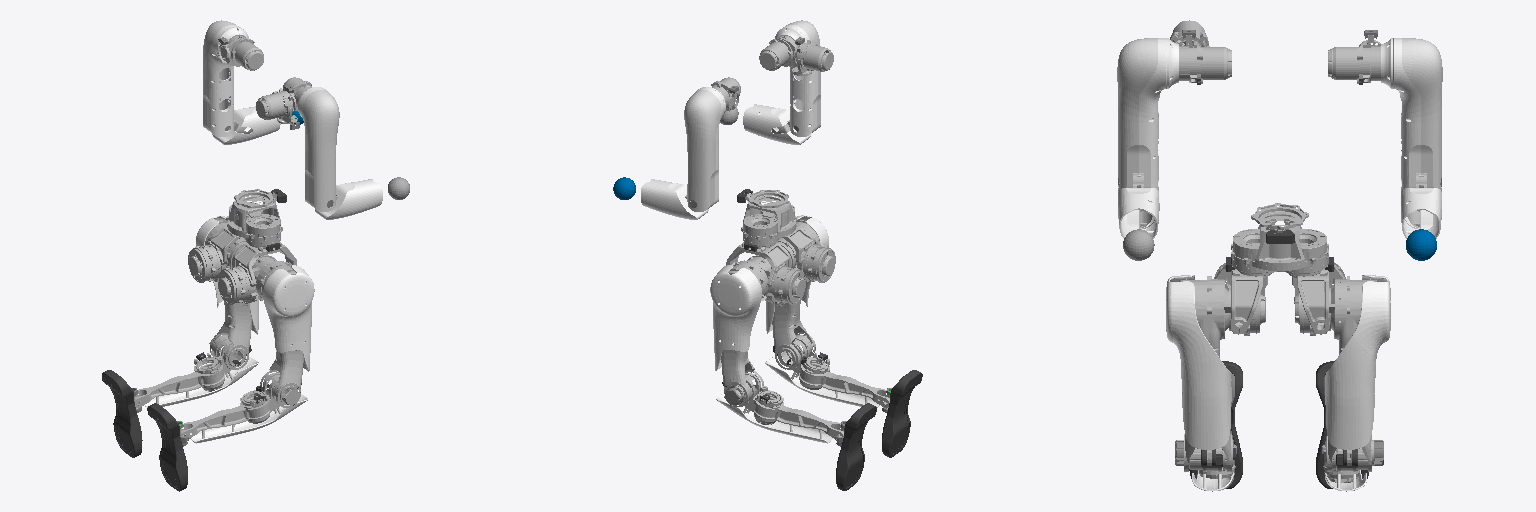
URDF robot description (WuKongIV):
<?xml version="1.0" encoding="utf-8"?>
<robot name="WuKongIV">
  <link name="SACRUM">
    <inertial>
      <mass value="0" />
      <inertia ixx="0" ixy="0" ixz="0" iyy="0" iyz="0" izz="0" />
    </inertial>
    <visual>
      <geometry>
        <mesh filename="../meshes_dae/SACRUM.dae" />
      </geometry>
    </visual>
  </link>

  <link name="BASE_INER">
    <inertial>
      <origin xyz="0.00096078 -2.1928E-05 -0.025162" />
      <mass value="3.4422" />
      <inertia ixx="0.01008488" ixy="-8.7E-07" ixz="-0.00016364" iyy="0.00548956" iyz="-2.8E-07" izz="0.00997073" />
    </inertial>
  </link>

  <joint name="Base2Iner" type="fixed">
    <parent link="SACRUM" />
    <child link="BASE_INER" />
  </joint>

  <link name="TORSO">
    <inertial>
      <origin xyz="0.002727 0.00010666 0.18215" />
      <mass value="17.144" />
      <inertia ixx="0.44797196" ixy="-0.00008178" ixz="-0.00554868" iyy="0.34075748" iyz="0.00021549" izz="0.17876604" />
    </inertial>
    <visual>
      <geometry>
        <mesh filename="../meshes_dae/TORSO.dae" />
      </geometry>
    </visual>
    <collision>
      <origin xyz="0 0 0.15" />
      <geometry>
        <box size="0.2 0.31 0.48"/>
      </geometry>
    </collision>
  </link>

  <joint name="Waist" type="revolute">
    <origin xyz="0.00010001 0 0.03751" />
    <parent link="SACRUM" />
    <child link="TORSO" />
    <axis xyz="0 0 1" />
    <limit lower="-0.698" upper="0.698" effort="84" velocity="7.85" />
    <dynamics damping="0" friction="0" />
  </joint>

  <link name="SCAPULA_R">
    <inertial>
      <origin xyz="-0.017297 -0.00031922 -0.0027747" />
      <mass value="1.0094" />
      <inertia ixx="0.00072781" ixy="0.00000511" ixz="0.00004844" iyy="0.00090651" iyz="0.0000138" izz="0.00084392" />
    </inertial>
    <visual>
      <geometry>
        <mesh filename="../meshes_dae/SCAPULA_R.dae" />
      </geometry>
    </visual>
  </link>

  <joint name="Shoulder_Z_R" type="revolute">
    <origin xyz="0 -0.1725 0.35275" />
    <parent link="TORSO" />
    <child link="SCAPULA_R" />
    <axis xyz="0 0 -1" />
    <limit lower="-0.366" upper="0.366" effort="100" velocity="4.1" />
    <dynamics damping="0" friction="0" />
  </joint>

  <link name="SHOULDER_R">
    <inertial>
      <origin xyz="-0.0030034 0.022918 0.00033814" />
      <mass value="0.95868" />
      <inertia ixx="0.00071081" ixy="-0.00006653" ixz="1.371E-06" iyy="0.00069481" iyz="0.00000687" izz="0.00077233" />
    </inertial>
    <visual>
      <geometry>
        <mesh filename="../meshes_dae/SHOULDER_R.dae" />
      </geometry>
    </visual>
  </link>

  <joint name="Shoulder_X_R" type="revolute">
    <origin xyz="0.05725 0 0" />
    <parent link="SCAPULA_R" />
    <child link="SHOULDER_R" />
    <axis xyz="-1 0 0" />
    <limit lower="-0.366" upper="0.366" effort="100" velocity="4.1" />
    <dynamics damping="0" friction="0" />
  </joint>

  <link name="UPPERARM_R">
    <inertial>
      <origin xyz="-0.0063123 0.020504 -0.048583" />
      <mass value="2.4239" />
      <inertia ixx="0.01622246" ixy="-0.00031829" ixz="-0.00100646" iyy="0.01499852" iyz="-0.00172217" izz="0.00352944" />
    </inertial>
    <visual>
      <geometry>
        <mesh filename="../meshes_dae/UPPERARM_R.dae" />
      </geometry>
    </visual>
    <collision>
      <origin xyz="-0.01 -0.005 -0.13" />
      <geometry>
        <box size="0.05 0.05 0.26" />
      </geometry>
    </collision> 
    <collision>
      <origin xyz="0 -0.01 0" rpy="1.57 0 0" />
      <geometry>
        <cylinder length="0.06" radius="0.05"/>
      </geometry>
    </collision> 
  </link>

  <joint name="Shoulder_Y_R" type="revolute">
    <origin xyz="0 -0.09525 0" />
    <parent link="SHOULDER_R" />
    <child link="UPPERARM_R" />
    <axis xyz="0 1 0" />
    <limit lower="-1.788" upper="0.714" effort="84" velocity="14.65" />
    <dynamics damping="0" friction="0" />
  </joint>

  <link name="FOREARM_R">
    <inertial>
      <origin xyz="0.16118 -0.00089188 -0.021779" />
      <mass value="1.27113" />
      <inertia ixx="0.00042911" ixy="0.00003147" ixz="0.00090579" iyy="0.00609032" iyz="-0.00000761" izz="0.00587061" />
    </inertial>
    <visual>
      <geometry>
        <mesh filename="../meshes_dae/FOREARM_R.dae" />
      </geometry>
    </visual>
  </link>

  <joint name="Elbow_R" type="revolute">
    <origin xyz="0 0 -0.25" />
    <parent link="UPPERARM_R" />
    <child link="FOREARM_R" />
    <axis xyz="0 1 0" />
    <limit lower="-1.274" upper="0.923" effort="84" velocity="14.65" />
    <dynamics damping="0" friction="0" />
  </joint>

  <link name="HAND_R">
    <inertial>
      <origin xyz="0.020883 0 -0.00068565" />
      <mass value="0.555665" />
      <inertia ixx="3.7989E-05" ixy="0" ixz="-2E-07" iyy="3.1765E-05" iyz="0" izz="3.1772E-05" />
    </inertial>
    <visual>
      <geometry>
        <sphere radius="0.03"/>
      </geometry>
      </visual>
    <collision>
      <origin xyz="0.01 0 0" />
      <geometry>
        <sphere radius="0.03"/>
      </geometry>
    </collision>
  </link>

  <joint name="Wrist_R" type="fixed">
    <origin xyz="0.22429 0 -0.0252" />
    <parent link="FOREARM_R" />
    <child link="HAND_R" />
    <dynamics damping="0" friction="0" />
  </joint>

  <link name="SCAPULA_L">
    <inertial>
      <origin xyz="-0.017301 0.00030058 -0.0027747" />
      <mass value="1.0094" />
      <inertia ixx="0.00072792" ixy="-5.71E-06" ixz="0.0000483" iyy="0.00090637" iyz="0.00001413" izz="0.0008439" />
    </inertial>
    <visual>
      <geometry>
        <mesh filename="../meshes_dae/SCAPULA_L.dae" />
      </geometry>
    </visual>
  </link>

  <joint name="Shoulder_Z_L" type="revolute">
    <origin xyz="0 0.1725 0.35275" />
    <parent link="TORSO" />
    <child link="SCAPULA_L" />
    <axis xyz="0 0 1" />
    <limit lower="-0.366" upper="0.366" effort="100" velocity="4.1" />
    <dynamics damping="0" friction="0" />
  </joint>

  <link name="SHOULDER_L">
    <inertial>
      <origin xyz="-0.0030034 -0.022922 0.00031317" />
      <mass value="0.95868" />
      <inertia ixx="0.00071064" ixy="0.00006639" ixz="0.00001402" iyy="0.00069483" iyz="-0.00000745" izz="0.00077215" />
    </inertial>
    <visual>
      <geometry>
        <mesh filename="../meshes_dae/SHOULDER_L.dae" />
      </geometry>
    </visual>
  </link>

  <joint name="Shoulder_X_L" type="revolute">
    <origin xyz="0.05725 0 0" />
    <parent link="SCAPULA_L" />
    <child link="SHOULDER_L" />
    <axis xyz="1 0 0" />
    <limit lower="-0.366" upper="0.366" effort="100" velocity="4.1" />
    <dynamics damping="0" friction="0" />
  </joint>

  <link name="UPPERARM_L">
    <inertial>
      <origin xyz="-0.0056932 -0.020527 -0.048691" />
      <mass value="2.4224" />
      <inertia ixx="0.01539894" ixy="-1.954E-05" ixz="-0.00132865" iyy="0.01452480" iyz="0.00199437" izz="0.00387488" />
    </inertial>
    <visual>
      <geometry>
        <mesh filename="../meshes_dae/UPPERARM_L.dae" />
      </geometry>
    </visual>
    <collision>
      <origin xyz="-0.01 0.005 -0.13" />
      <geometry>
        <box size="0.05 0.05 0.26" />
      </geometry>
    </collision> 
    <collision>
      <origin xyz="0 0.01 0" rpy="1.57 0 0" />
      <geometry>
        <cylinder length="0.06" radius="0.05"/>
      </geometry>
    </collision> 
  </link> 

  <joint name="Shoulder_Y_L" type="revolute">
    <origin xyz="0 0.09525 0" />
    <parent link="SHOULDER_L" />
    <child link="UPPERARM_L" />
    <axis xyz="0 1 0" />
    <limit lower="-1.788" upper="0.714" effort="84" velocity="14.65" />
    <dynamics damping="0" friction="0" />
  </joint>

  <link name="FOREARM_L">
    <inertial>
      <origin xyz="0.16119 0.00088935 -0.02178" />
      <mass value="1.27117" />
      <inertia ixx="0.00025279" ixy="0.00000211" ixz="8.779E-05" iyy="0.00211374" iyz="4.4E-07" izz="0.00206977" />
    </inertial>
    <visual>
      <geometry>
        <mesh filename="../meshes_dae/FOREARM_L.dae" />
      </geometry>
    </visual>
  </link>

  <joint name="Elbow_L" type="revolute">
    <origin xyz="0 0 -0.25" />
    <parent link="UPPERARM_L" />
    <child link="FOREARM_L" />
    <axis xyz="0 1 0" />
    <limit lower="-1.274" upper="0.923" effort="84" velocity="14.65" />
    <dynamics damping="0" friction="0" />
  </joint>

  <link name="HAND_L">
    <inertial>
      <origin xyz="0.021882 4.6532E-07 -0.00071846" />
      <mass value="0.555665" />
      <inertia ixx="3.7989E-05" ixy="0" ixz="-2E-07" iyy="3.1765E-05" iyz="0" izz="3.1772E-05" />
    </inertial>
    <visual>
      <geometry>
        <sphere radius="0.03"/>
      </geometry>
    </visual>
    <collision>
      <origin xyz="0.01 0 0" />
      <geometry>
        <sphere radius="0.03"/>
      </geometry>
    </collision>
  </link>

  <joint name="Wrist_L" type="fixed">
    <origin xyz="0.2243 0 -0.02505" />
    <parent link="FOREARM_L" />
    <child link="HAND_L" />
    <dynamics damping="0" friction="0" />
  </joint>

  <link name="ILIUM_R">
    <inertial>
      <origin xyz="-0.075151 -0.029746 0.011661" />
      <mass value="1.6695" />
      <inertia ixx="0.0031277" ixy="-0.00030585" ixz="-0.00138371" iyy="0.00641746" iyz="-0.00027709" izz="0.00540224" />
    </inertial>
    <visual>
      <geometry>
        <mesh filename="../meshes_dae/ILIUM_R.dae" />
      </geometry>
    </visual>
    <collision>
      <origin xyz="-0.129 -0.032 0" rpy="0 1.57 0" />
      <geometry>
        <cylinder length="0.02" radius="0.046"/>
      </geometry>
    </collision>
  </link>

  <joint name="Hip_Z_R" type="revolute">
    <origin xyz="0.00010001 -0.045 -0.15049" />
    <parent link="SACRUM" />
    <child link="ILIUM_R" />
    <axis xyz="0 0 -1" />
    <limit lower="-0.174" upper="0.174" effort="84" velocity="7.85" />
    <dynamics damping="0" friction="0" />
  </joint>

  <link name="ISCHIUM_R">
    <inertial>
      <origin xyz="-0.0061454 0.0083018 -0.00041435" />
      <mass value="1.489" />
      <inertia ixx="0.00123482" ixy="-8.78E-05" ixz="-0.00003823" iyy="0.00216773" iyz="-7.68E-06" izz="0.00170290" />
    </inertial>
    <visual>
      <geometry>
        <mesh filename="../meshes_dae/ISCHIUM_R.dae" />
      </geometry>
    </visual>
  </link>

  <joint name="Hip_X_R" type="revolute">
    <origin xyz="0 -0.0325 0" />
    <parent link="ILIUM_R" />
    <child link="ISCHIUM_R" />
    <axis xyz="-1 0 0" />
    <limit lower="-0.349" upper="0.349" effort="84" velocity="7.85" />
    <dynamics damping="0" friction="0" />
  </joint>

  <link name="THIGH_R">
    <inertial>
      <origin xyz="0.0047566 -0.027902 -0.039381" />
      <mass value="3.5319" />
      <inertia ixx="0.02861456" ixy="-0.00013987" ixz="0.00177396" iyy="0.02934292" iyz="0.00138919" izz="0.00585688" />
    </inertial>
    <visual>
      <geometry>
        <mesh filename="../meshes_dae/THIGH_R.dae" />
      </geometry>
    </visual>
    <collision>
      <origin xyz="0 -0.02 -0.132" />
      <geometry>
        <cylinder length="0.30" radius="0.05"/>
      </geometry>
    </collision>
    <collision>
      <origin xyz="0 -0.04 -0.01" rpy="1.57 0 0" />
      <geometry>
        <cylinder length="0.10" radius="0.066"/>
      </geometry>
    </collision>
  </link>

  <joint name="Hip_Y_R" type="revolute">
    <origin xyz="0 -0.0432 0" />
    <parent link="ISCHIUM_R" />
    <child link="THIGH_R" />
    <axis xyz="0 1 0" />
    <limit lower="-2.207" upper="0.462" effort="84" velocity="7.85" />
    <dynamics damping="0" friction="0" />
  </joint>

  <link name="SHANK_R">
    <inertial>
      <origin xyz="0.010628 -0.0095812 -0.051247" />
      <mass value="2.7397" />
      <inertia ixx="0.01492817" ixy="-0.00027923" ixz="0.00061306" iyy="0.01461087" iyz="0.00072764" izz="0.00321124" />
    </inertial>
    <visual>
      <geometry>
        <mesh filename="../meshes_dae/SHANK_R.dae" />
      </geometry>
    </visual>
    <collision>
      <origin xyz="0.02 0 -0.16" rpy="0 0.3 0" />
      <geometry>
        <cylinder length="0.18" radius="0.02"/>
      </geometry>
    </collision>
    <collision>
      <origin xyz="0.05 0 -0.04" rpy="0 1.57 0" />
      <geometry>
        <cylinder length="0.05" radius="0.036"/>
      </geometry>
    </collision>
    <collision>
      <origin xyz="0.05 0 -0.06" rpy="0 1.57 0" />
      <geometry>
        <cylinder length="0.05" radius="0.036"/>
      </geometry>
    </collision>
  </link>

  <joint name="Knee_R" type="revolute">
    <origin xyz="0 0 -0.3" />
    <parent link="THIGH_R" />
    <child link="SHANK_R" />
    <axis xyz="0 1 0" />
    <limit lower="0.071" upper="2.617" effort="180" velocity="12" />
    <dynamics damping="0" friction="0" />
  </joint>

  <link name="ASTRAGALUS_R">
    <inertial>
      <origin xyz="-0.014376 -3.454E-05 0.0057672" />
      <mass value="0.068615" />
      <inertia ixx="8.86E-06" ixy="-2E-08" ixz="5.49E-07" iyy="0.00002951" iyz="4E-08" izz="0.00002574" />
    </inertial>
    <visual>
      <geometry>
        <mesh filename="../meshes_dae/ASTRAGALUS.dae" />
      </geometry>
    </visual>
  </link>

  <joint name="Ankle_Y_R" type="revolute">
    <origin xyz="0 0 -0.3" />
    <parent link="SHANK_R" />
    <child link="ASTRAGALUS_R" />
    <axis xyz="0 1 0" />
    <limit lower="-1.134" upper="0.261" effort="28" velocity="14.65" />
    <dynamics damping="0" friction="0" />
  </joint>

  <link name="FOOT_R">
    <inertial>
      <origin xyz="-5.1084E-10 -0.0010736 -0.024732" />
      <mass value="0.23297" />
      <inertia ixx="0.00010981" ixy="-2.5096E-10" ixz="8.0022E-13" iyy="0.00058824" iyz="3.92E-06" izz="0.00065893" />
    </inertial>
    <visual>
      <geometry>
        <mesh filename="../meshes_dae/FOOT_R.dae" />
      </geometry>
    </visual>
  </link>

  <joint name="Ankle_X_R" type="revolute">
    <parent link="ASTRAGALUS_R" />
    <child link="FOOT_R" />
    <axis xyz="-1 0 0" />
    <limit lower="-0.222" upper="0.222" effort="28" velocity="14.65" />
    <dynamics damping="0" friction="0" />
  </joint>

  <link name="TIPTOE_R">
    <inertial>
      <origin xyz="0.001 0.001 -0.0052715" />
      <mass value="0.19293" />
      <inertia ixx="0.00012184" ixy="0" ixz="0" iyy="0.00079695" iyz="0" izz="0.00090791" />
    </inertial>
    <visual>
      <geometry>
        <mesh filename="../meshes_dae/TIPTOE.dae" />
      </geometry>
    </visual>
    <collision>
      <origin xyz="0.03 0 0.005"/>
      <geometry>
        <box size="0.24 0.08 0.01"/>
      </geometry>
    </collision>
  </link>

  <joint name="Tiptoe_Z_R" type="fixed">
    <origin xyz="0 0 -0.031" />
    <parent link="FOOT_R" />
    <child link="TIPTOE_R" />
  </joint>

  <link name="ILIUM_L">
    <inertial>
      <origin xyz="-0.075166 0.029681 0.011765" />
      <mass value="1.6675" />
      <inertia ixx="0.00312613" ixy="0.0003" ixz="-0.0013813" iyy="0.00641573" iyz="0.00027496" izz="0.00540253" />
    </inertial>
    <visual>
      <geometry>
        <mesh filename="../meshes_dae/ILIUM_L.dae" />
      </geometry>
    </visual>
    <collision>
      <origin xyz="-0.129 0.032 0" rpy="0 1.57 0" />
      <geometry>
        <cylinder length="0.02" radius="0.046"/>
      </geometry>
    </collision>
  </link>

  <joint name="Hip_Z_L" type="revolute">
    <origin xyz="0.00010001 0.045 -0.15049" />
    <parent link="SACRUM" />
    <child link="ILIUM_L" />
    <axis xyz="0 0 1" />
    <limit lower="-0.174" upper="0.174" effort="84" velocity="7.85" />
    <dynamics damping="0" friction="0" />
  </joint>

  <link name="ISCHIUM_L">
    <inertial>
      <origin xyz="-0.0061396 -0.0083018 -0.00049822" />
      <mass value="1.489" />
      <inertia ixx="0.00123473" ixy="0.00008691" ixz="-0.00003659" iyy="0.00216555" iyz="0.00000356" izz="0.00170081" />
    </inertial>
    <visual>
      <geometry>
        <mesh filename="../meshes_dae/ISCHIUM_L.dae" />
      </geometry>
    </visual>
  </link>

  <joint name="Hip_X_L" type="revolute">
    <origin xyz="0 0.0325 0" />
    <parent link="ILIUM_L" />
    <child link="ISCHIUM_L" />
    <axis xyz="1 0 0" />
    <limit lower="-0.349" upper="0.349" effort="84" velocity="7.85" />
    <dynamics damping="0" friction="0" />
  </joint>

  <link name="THIGH_L">
    <inertial>
      <origin xyz="0.0048204 0.029872 -0.039658" />
      <mass value="3.5416" />
      <inertia ixx="0.02873630" ixy="0.00014184" ixz="0.00179307" iyy="0.02945913" iyz="-0.00141552" izz="0.00587297" />
    </inertial>
    <visual>
      <geometry>
        <mesh filename="../meshes_dae/THIGH_L.dae" />
      </geometry>
    </visual>
    <collision>
      <origin xyz="0 0.02 -0.132" />
      <geometry>
        <cylinder length="0.30" radius="0.05"/>
      </geometry>
    </collision>
    <collision>
      <origin xyz="0 0.04 -0.01" rpy="1.57 0 0" />
      <geometry>
        <cylinder length="0.10" radius="0.066"/>
      </geometry>
    </collision>
  </link>

  <joint name="Hip_Y_L" type="revolute">
    <origin xyz="0 0.0412 0" />
    <parent link="ISCHIUM_L" />
    <child link="THIGH_L" />
    <axis xyz="0 1 0" />
    <limit lower="-2.207" upper="0.462" effort="84" velocity="7.85" />
    <dynamics damping="0" friction="0" />
  </joint>

  <link name="SHANK_L">
    <inertial>
      <origin xyz="0.010866 0.0095055 -0.052181" />
      <mass value="2.7463" />
      <inertia ixx="0.01498291" ixy="0.0002868" ixz="0.00062657" iyy="0.01462625" iyz="-0.00072343" izz="0.00332056" />
    </inertial>
    <visual>
      <geometry>
        <mesh filename="../meshes_dae/SHANK_L.dae" />
      </geometry>
    </visual>
    <collision>
      <origin xyz="0.02 0 -0.16" rpy="0 0.3 0" />
      <geometry>
        <cylinder length="0.18" radius="0.02"/>
      </geometry>
    </collision>
    <collision>
      <origin xyz="0.05 0 -0.04" rpy="0 1.57 0" />
      <geometry>
        <cylinder length="0.05" radius="0.036"/>
      </geometry>
    </collision>
    <collision>
      <origin xyz="0.05 0 -0.06" rpy="0 1.57 0" />
      <geometry>
        <cylinder length="0.05" radius="0.036"/>
      </geometry>
    </collision>
  </link>

  <joint name="Knee_L" type="revolute">
    <origin xyz="0 0 -0.3" />
    <parent link="THIGH_L" />
    <child link="SHANK_L" />
    <axis xyz="0 1 0" />
    <limit lower="0.071" upper="2.617" effort="180" velocity="12" />
    <dynamics damping="0" friction="0" />
  </joint>

  <link name="ASTRAGALUS_L">
    <inertial>
      <origin xyz="-0.014376 -3.4496E-05 0.0057671" />
      <mass value="0.068615" />
      <inertia ixx="8.86E-06" ixy="-2E-08" ixz="5.49E-06" iyy="0.00002951" iyz="4E-08" izz="0.00002574" />
    </inertial>
    <visual>
      <geometry>
        <mesh filename="../meshes_dae/ASTRAGALUS.dae" />
      </geometry>
    </visual>
  </link>

  <joint name="Ankle_Y_L" type="revolute">
    <origin xyz="0 0 -0.3" />
    <parent link="SHANK_L" />
    <child link="ASTRAGALUS_L" />
    <axis xyz="0 1 0" />
    <limit lower="-1.134" upper="0.261" effort="28" velocity="14.65" />
    <dynamics damping="0" friction="0" />
  </joint>

  <link name="FOOT_L">
    <inertial>
      <origin xyz="1.1755E-08 0.0010736 -0.024732" />
      <mass value="0.23297" />
      <inertia ixx="0.00010981" ixy="-2.5096E-10" ixz="-8.0022E-13" iyy="0.00058824" iyz="-3.9216E-06" izz="0.00065893" />
    </inertial>
    <visual>
      <geometry>
        <mesh filename="../meshes_dae/FOOT_L.dae" />
      </geometry>
    </visual>
  </link>

  <joint name="Ankle_X_L" type="revolute">
    <parent link="ASTRAGALUS_L" />
    <child link="FOOT_L" />
    <axis xyz="1 0 0" />
    <limit lower="-0.222" upper="0.222" effort="28" velocity="14.65" />
    <dynamics damping="0" friction="0" />
  </joint>

  <link name="TIPTOE_L">
    <inertial>
      <origin xyz="0 0 -0.0052715" />
      <mass value="0.19293" />
      <inertia ixx="0.00012184" ixy="0" ixz="0" iyy="0.00079695" iyz="0" izz="0.00090791" />
    </inertial>
    <visual>
      <geometry>
        <mesh filename="../meshes_dae/TIPTOE.dae" />
      </geometry>
    </visual>
    <collision>
      <origin xyz="0.03 0 0.005"/>
      <geometry>
        <box size="0.24 0.08 0.01"/>
      </geometry>
    </collision>
  </link>

  <joint name="Tiptoe_Z_L" type="fixed">
    <origin xyz="0 0 -0.031" />
    <parent link="FOOT_L" />
    <child link="TIPTOE_L" />
  </joint>
</robot>

--- Facts derived from the render (not from the file) ---
3 views of the same robot in one strip: view 1: azimuth 30°, elevation 25°; view 2: azimuth 150°, elevation 25°; view 3: azimuth 270°, elevation 25° (orthographic).
Model WuKongIV with 27 links and 26 joints (21 revolute, 5 fixed), rooted at SACRUM, posed all joints at 0 but 2 set to mid-range because 0 is outside their limits (Knee_R = 1.34, Knee_L = 1.34).
Visible links, largest first — view 1: THIGH_R, UPPERARM_R, SHANK_L, SHANK_R, UPPERARM_L, SACRUM, THIGH_L, ILIUM_R, FOOT_R, FOOT_L, ILIUM_L, FOREARM_R (+3 smaller); view 2: THIGH_L, UPPERARM_L, SHANK_R, SHANK_L, SACRUM, UPPERARM_R, THIGH_R, ILIUM_L, FOOT_L, FOOT_R, ILIUM_R, FOREARM_R (+3 smaller); view 3: THIGH_R, THIGH_L, UPPERARM_R, UPPERARM_L, SACRUM, FOREARM_R, FOREARM_L, ILIUM_L, ILIUM_R, SHANK_L, SHANK_R, SHOULDER_L (+6 smaller).
Link boxes in pixels (box(x1,y1,x2,y2)): THIGH_R: box(256, 261, 314, 407); UPPERARM_R: box(296, 86, 339, 211); SHANK_L: box(134, 335, 258, 407); SHANK_R: box(180, 373, 307, 443); UPPERARM_L: box(203, 20, 248, 136); SACRUM: box(226, 189, 286, 251); THIGH_L: box(196, 216, 258, 369); ILIUM_R: box(218, 236, 296, 304); FOOT_R: box(147, 403, 189, 491); FOOT_L: box(102, 370, 142, 457); ILIUM_L: box(188, 224, 261, 282); FOREARM_R: box(315, 179, 382, 219); THIGH_L: box(710, 260, 767, 406); UPPERARM_L: box(684, 87, 727, 211); SHANK_R: box(765, 335, 889, 407); SHANK_L: box(716, 373, 843, 443); SACRUM: box(737, 189, 797, 251); UPPERARM_R: box(775, 20, 820, 136); THIGH_R: box(765, 215, 828, 369); ILIUM_L: box(726, 236, 805, 304); FOOT_L: box(835, 403, 876, 490); FOOT_R: box(882, 370, 922, 457); ILIUM_R: box(758, 225, 835, 282); FOREARM_R: box(743, 104, 811, 144); THIGH_R: box(1166, 275, 1231, 471); THIGH_L: box(1325, 275, 1390, 471); UPPERARM_R: box(1117, 38, 1200, 191); UPPERARM_L: box(1359, 38, 1442, 191); SACRUM: box(1226, 203, 1333, 276); FOREARM_R: box(1118, 173, 1159, 238); FOREARM_L: box(1400, 173, 1441, 238); ILIUM_L: box(1289, 262, 1345, 334); ILIUM_R: box(1214, 263, 1270, 334); SHANK_L: box(1322, 439, 1373, 491); SHANK_R: box(1185, 439, 1236, 491); SHOULDER_L: box(1328, 30, 1380, 83).
Bounding box of the posed robot: 0.6814 × 0.6164 × 1.11 m (x, y, z).
Meshes: 22 distinct files referenced, 20 mesh visuals loaded (19 Collada DAE); not drawn: 4 (reference not matched to a file when rendering).
